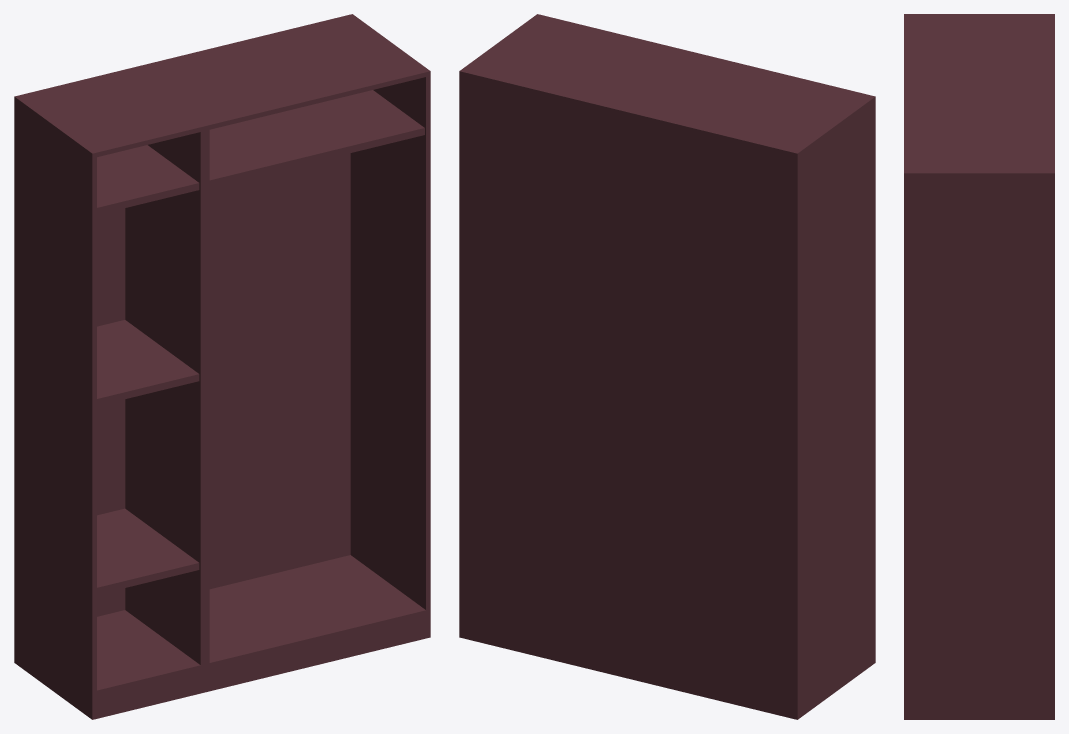
The model's file is closet-wardrobe-open-empty.fbx.
3 views of the same model, side by side, from view 1: azimuth 30°, elevation 25°; view 2: azimuth 150°, elevation 25°; view 3: azimuth 270°, elevation 25° (orthographic). The views are drawn at different scales.
Parts seen in each view (by area): view 1: closet-wardrobe-open-empty; view 2: closet-wardrobe-open-empty; view 3: closet-wardrobe-open-empty.
Part boxes in pixels (x1,y1,x2,y2): closet-wardrobe-open-empty: (14,14,430,719); closet-wardrobe-open-empty: (459,14,875,719); closet-wardrobe-open-empty: (904,14,1054,719).
Bounding box in the file's own units: 1.5 × 2.4 × 0.6.
